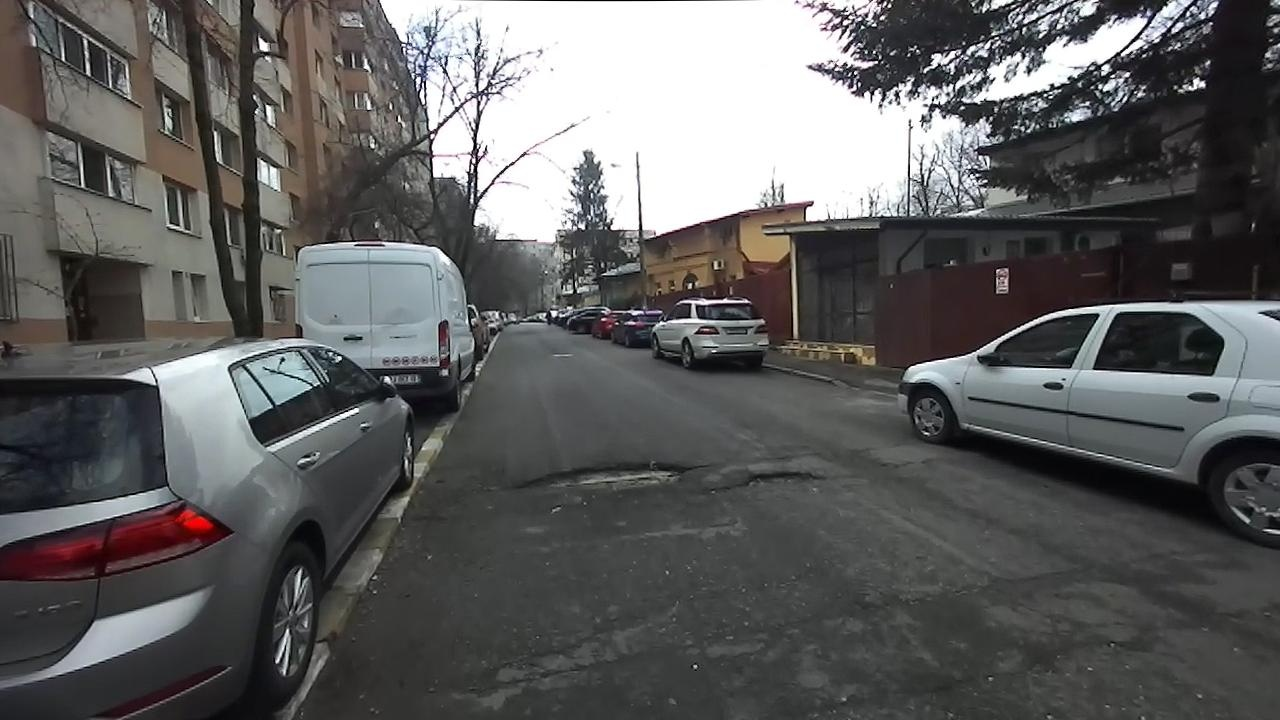pothole: (504, 455, 708, 496), (719, 466, 827, 494)
